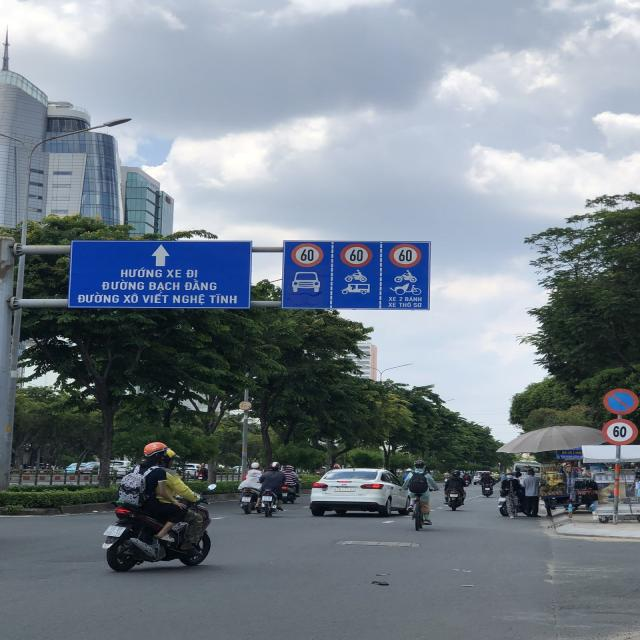Bien bao cam do xe: (602, 382, 640, 418)
Bien bao toc do toi da cho phep: (384, 239, 428, 269), (598, 415, 640, 445), (288, 240, 322, 268), (340, 237, 370, 268)
